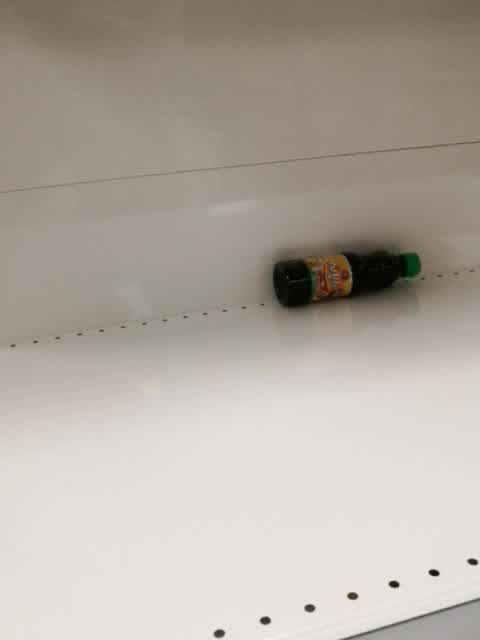cookingoil: (270, 249, 423, 310)
